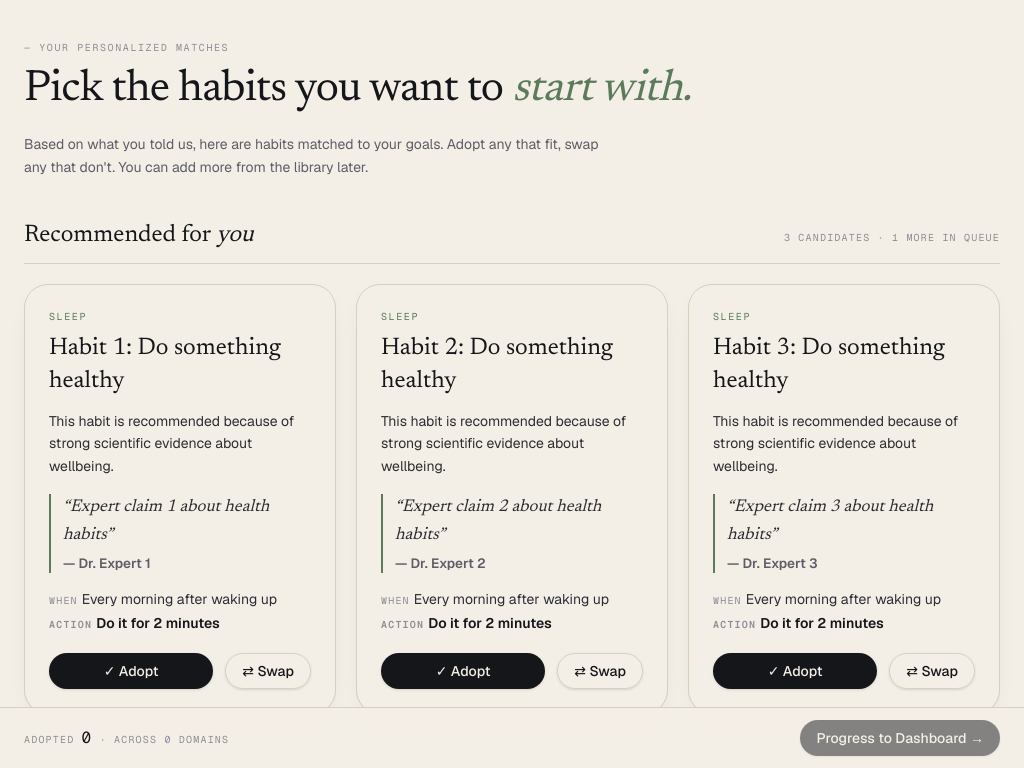
Test case: AdoptBoard › Swap discards the card and surfaces the next queued candidate
The width and height of the screenshot is (1024, 768).
Click the button with aria-label "Swap Habit 1" at [268, 671], box [225,653,311,689]
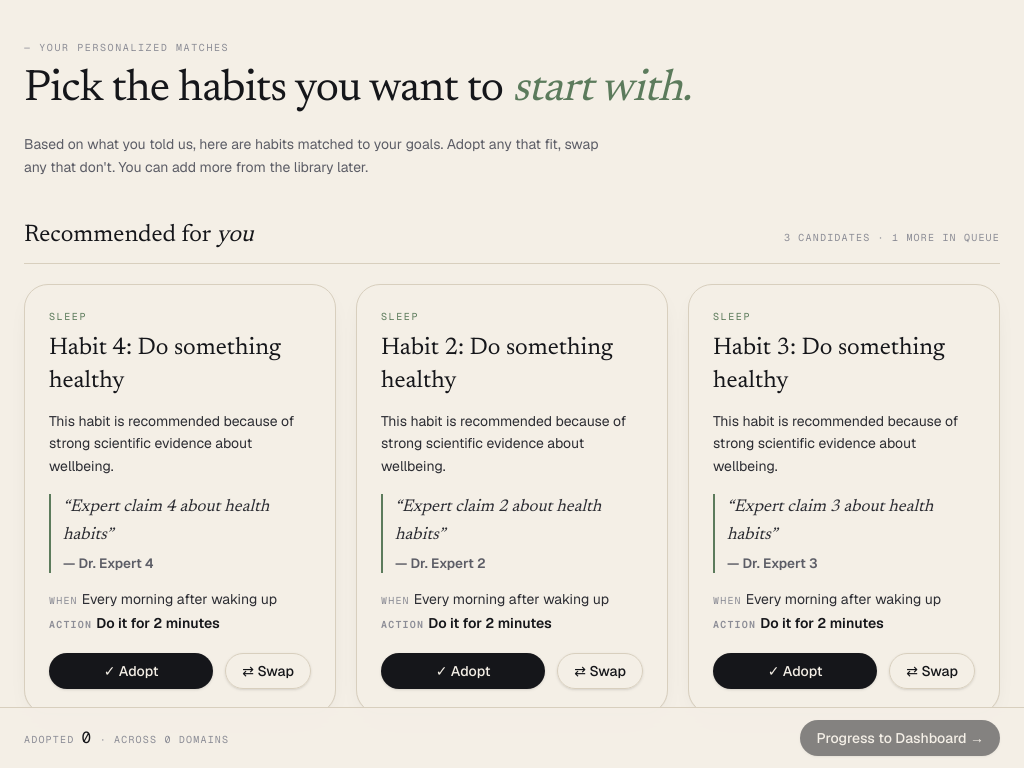
Expected: the heading "Habit 1: Do something healthy" is gone
Expected: the heading "Habit 4: Do something healthy" is shown, [49,332,311,398]
